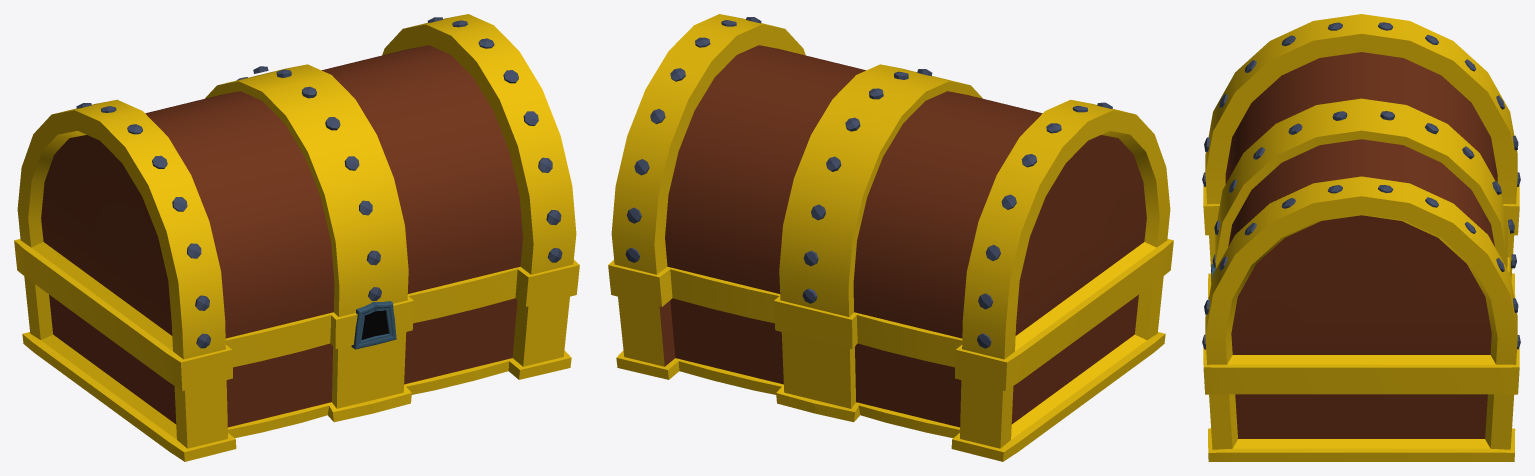
The model's file is CofreDeSemillas.fbx.
The picture shows the model from 3 angles, left to right: view 1: azimuth 30°, elevation 25°; view 2: azimuth 150°, elevation 25°; view 3: azimuth 270°, elevation 25°; orthographic projection. The views are drawn at different scales.
Visible parts, largest first — view 1: Cofre.003; view 2: Cofre.003; view 3: Cofre.003.
Part boxes in pixels (bbox=[...]): Cofre.003: bbox=[14, 14, 579, 461]; Cofre.003: bbox=[608, 14, 1173, 461]; Cofre.003: bbox=[1202, 14, 1520, 461].
Bounding box in the file's own units: 324 × 219 × 234.
